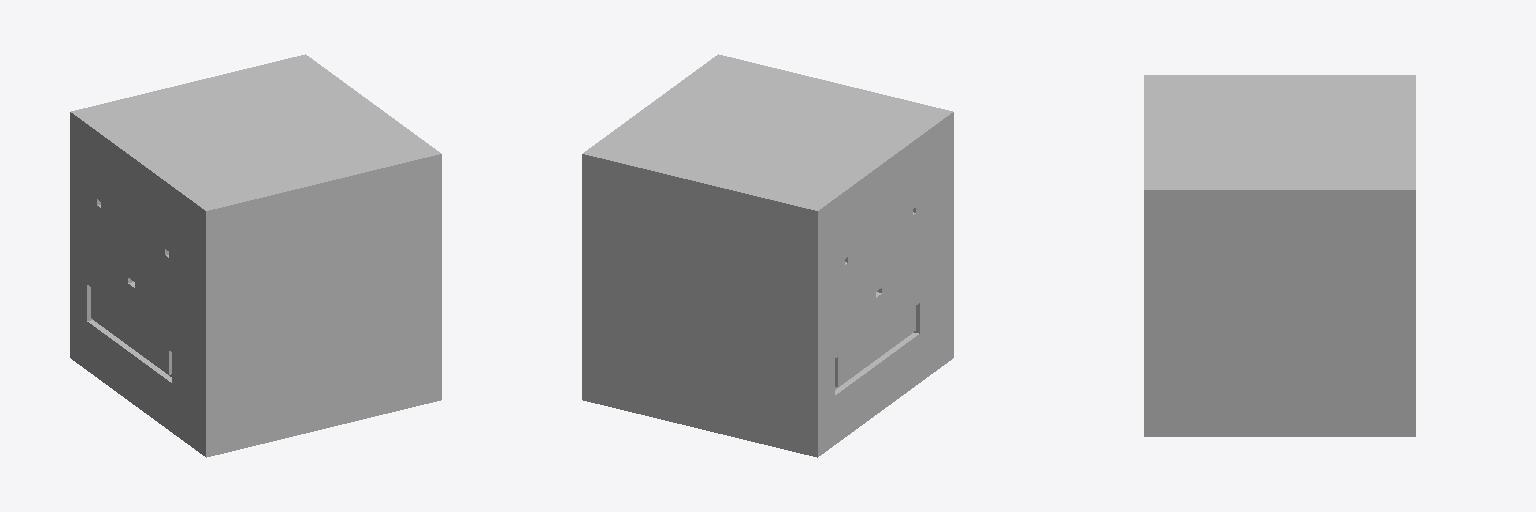
Rendered from Hero.obj.
The picture shows the model from 3 angles: view 1: azimuth 30°, elevation 25°; view 2: azimuth 150°, elevation 25°; view 3: azimuth 270°, elevation 25°; orthographic projection.
Visible parts, largest first — view 1: object 1; view 2: object 1; view 3: object 1.
Boxes of the visible parts, x1=… form: object 1: x1=70, y1=54, x2=441, y2=457; object 1: x1=582, y1=54, x2=953, y2=457; object 1: x1=1144, y1=75, x2=1415, y2=436.
Size of the model in its own units: 4 by 4 by 4.